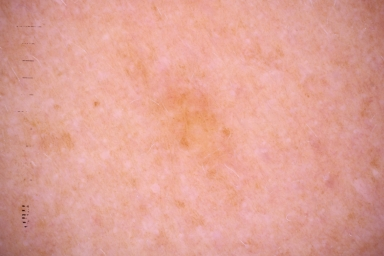melanoma: (173, 93, 221, 148)
